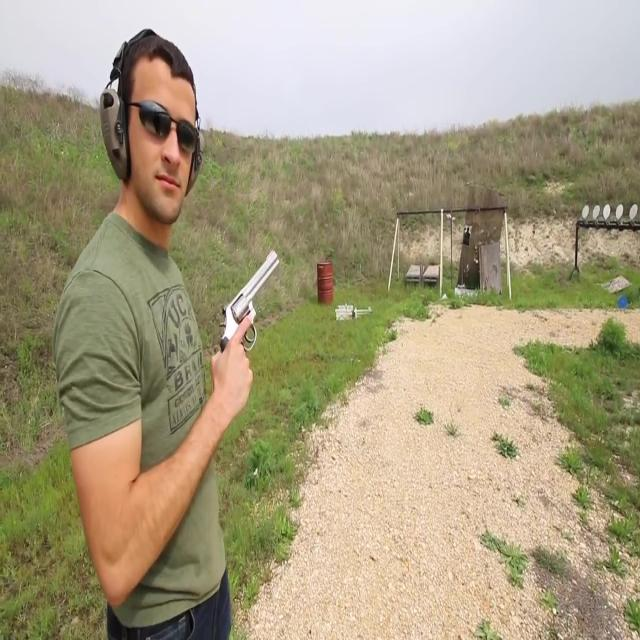Weapon: (218, 219, 290, 391)
